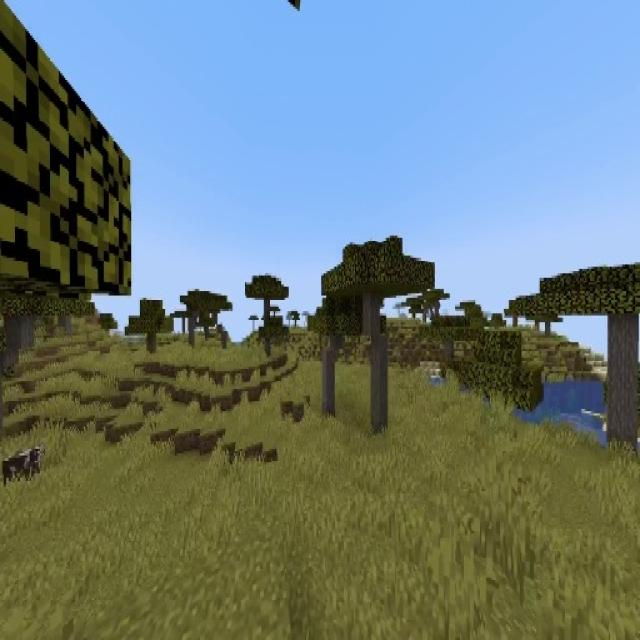acacia: (321, 237, 436, 432), (537, 265, 640, 457), (310, 306, 358, 412)
acacia_log: (609, 317, 638, 455), (245, 275, 289, 357), (372, 335, 389, 427), (6, 315, 33, 350), (322, 349, 336, 413)
oak: (126, 299, 175, 359)
